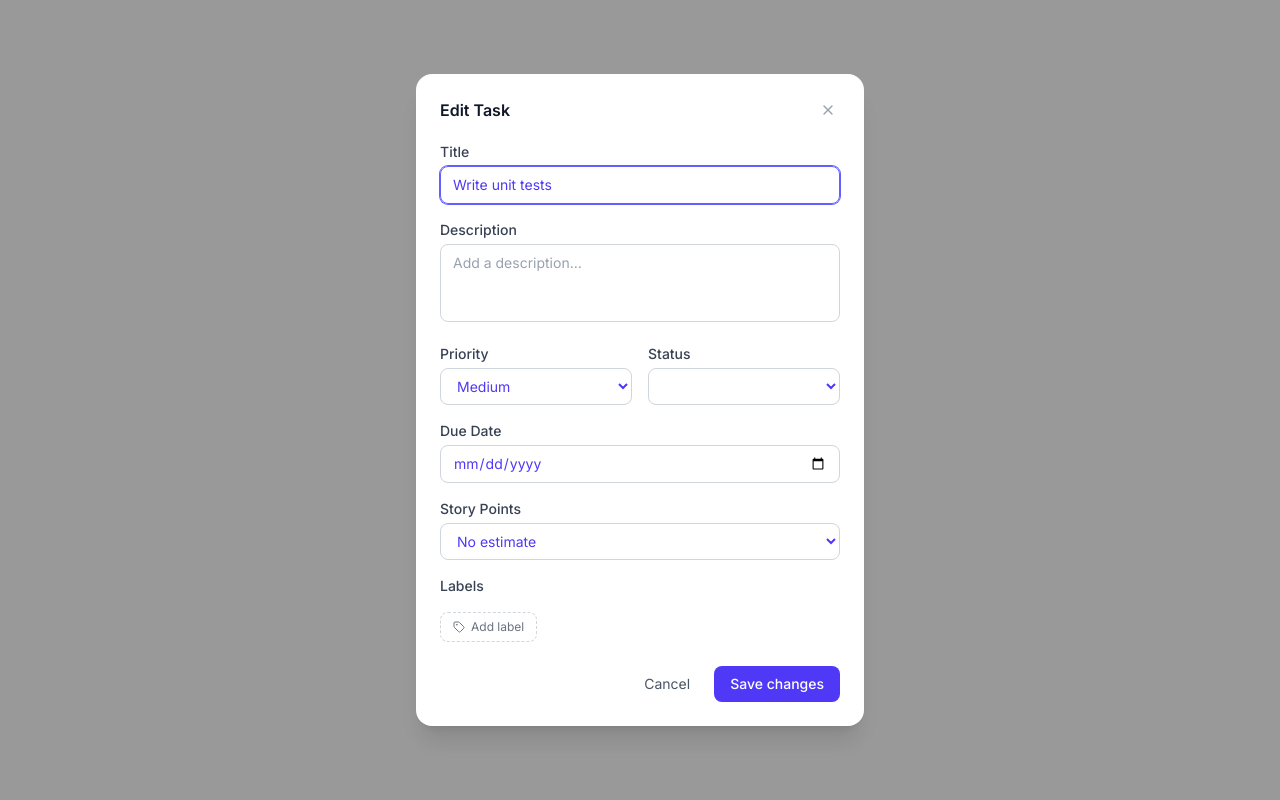
Test case: TaskEditModal › disables Save button when title is empty
Step 1. Clear the field labelled "Title" → (640, 185), box [440,166,840,204]
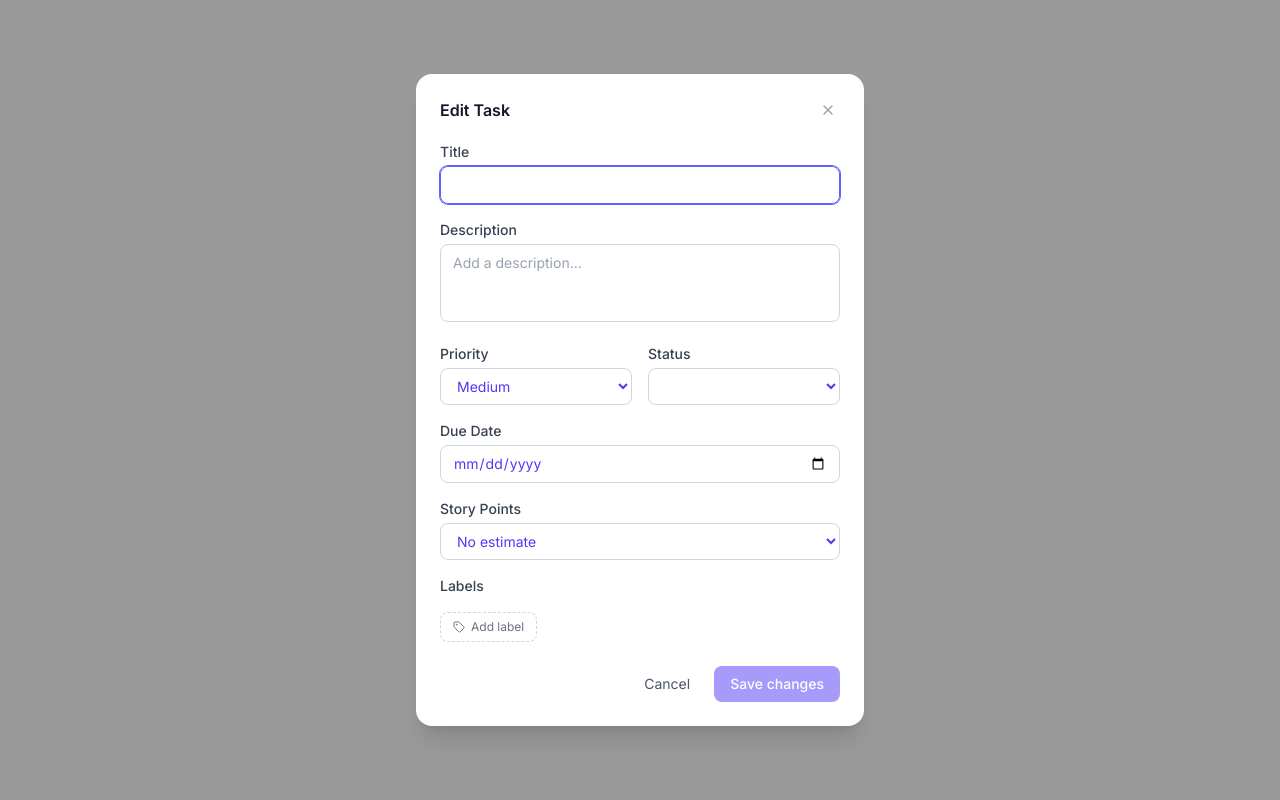
Result: the button "Save changes" is disabled at [714,666,840,702]
